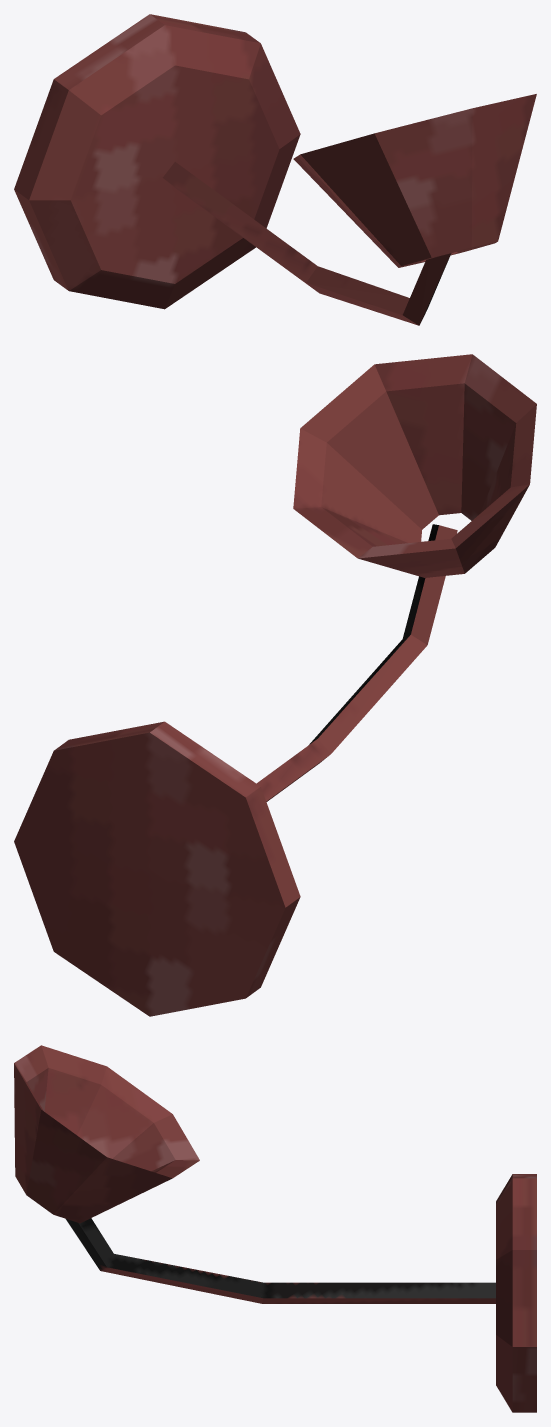
Rendered from pz_house_lamp_red.obj.
3 views of the same model, one above another, from view 1: azimuth 30°, elevation 25°; view 2: azimuth 150°, elevation 25°; view 3: azimuth 270°, elevation 25° (orthographic). The views are drawn at different scales.
Visible parts, largest first — view 1: pz_house_lamp_red_|_1_parte_1, pz_house_lamp_red_|_3_parte_3, pz_house_lamp_red_|_2_parte_2; view 2: pz_house_lamp_red_|_1_parte_1, pz_house_lamp_red_|_3_parte_3, pz_house_lamp_red_|_2_parte_2; view 3: pz_house_lamp_red_|_3_parte_3, pz_house_lamp_red_|_2_parte_2, pz_house_lamp_red_|_1_parte_1.
Part boxes in pixels (x1,y1,x2,y2): pz_house_lamp_red_|_1_parte_1: (14,14,300,309); pz_house_lamp_red_|_3_parte_3: (293,94,536,267); pz_house_lamp_red_|_2_parte_2: (162,162,451,325); pz_house_lamp_red_|_1_parte_1: (14,721,300,1016); pz_house_lamp_red_|_3_parte_3: (293,354,536,577); pz_house_lamp_red_|_2_parte_2: (256,524,457,801); pz_house_lamp_red_|_3_parte_3: (14,1045,199,1223); pz_house_lamp_red_|_2_parte_2: (66,1218,495,1303); pz_house_lamp_red_|_1_parte_1: (496,1174,536,1412).
Size of the model in its own units: 0.26 by 0.39 by 0.5353.
1 material, 1 textured.
